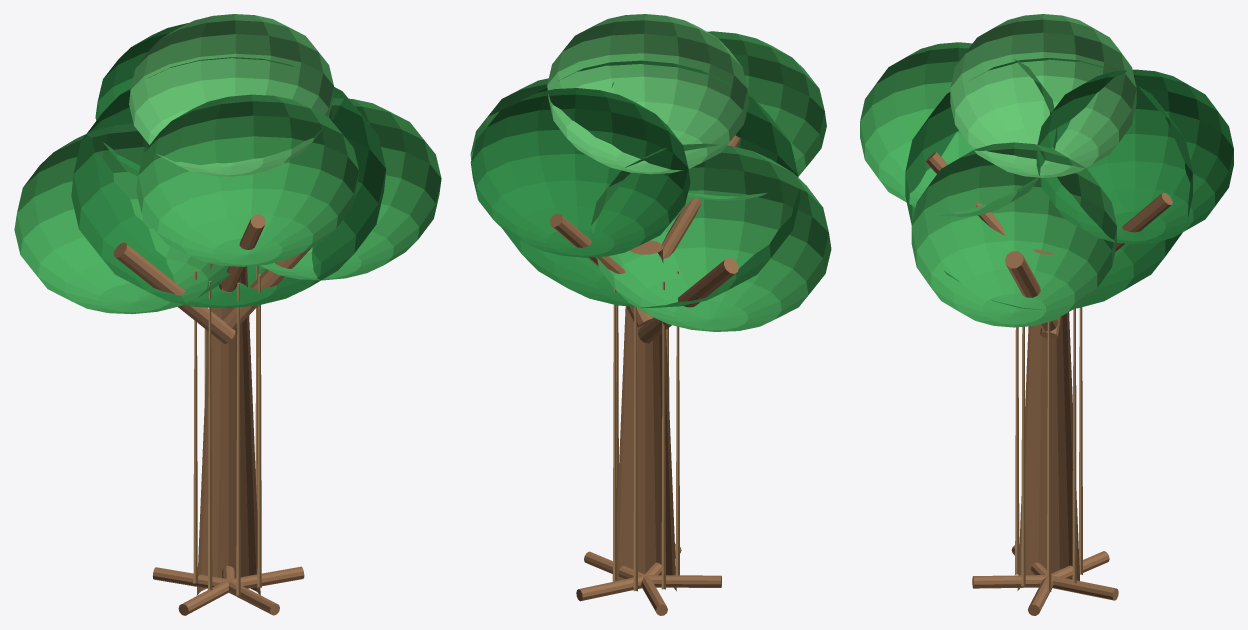
File: niu_optimized_tree.glb
3 views of the same model, side by side, from view 1: azimuth 30°, elevation 25°; view 2: azimuth 150°, elevation 25°; view 3: azimuth 270°, elevation 25° (orthographic).
Visible parts, largest first — view 1: leaf_cluster_04, leaf_cluster_05, leaf_cluster_00, leaf_cluster_02, main_tapered_trunk, leaf_cluster_01, leaf_cluster_03, branch_01, bark_ridge_02, bark_ridge_01, bark_ridge_03, bark_ridge_04 (+6 smaller); view 2: leaf_cluster_03, leaf_cluster_02, leaf_cluster_05, main_tapered_trunk, leaf_cluster_00, leaf_cluster_04, branch_01, bark_ridge_05, bark_ridge_04, bark_ridge_06, branch_03, bark_ridge_03 (+7 smaller); view 3: leaf_cluster_01, leaf_cluster_05, leaf_cluster_03, main_tapered_trunk, leaf_cluster_04, leaf_cluster_00, bark_ridge_06, bark_ridge_00, bark_ridge_01, branch_00, bark_ridge_05, bark_ridge_02 (+5 smaller).
Boxes of the visible parts, <box> form: leaf_cluster_04: <box>136,94,359,266</box>; leaf_cluster_05: <box>129,14,333,176</box>; leaf_cluster_00: <box>71,57,386,308</box>; leaf_cluster_02: <box>14,123,231,314</box>; main_tapered_trunk: <box>196,263,260,595</box>; leaf_cluster_01: <box>260,98,441,280</box>; leaf_cluster_03: <box>95,23,188,176</box>; branch_01: <box>113,242,235,343</box>; bark_ridge_02: <box>236,282,240,595</box>; bark_ridge_01: <box>257,274,261,587</box>; bark_ridge_03: <box>208,281,212,590</box>; bark_ridge_04: <box>193,270,197,583</box>; leaf_cluster_03: <box>470,88,690,257</box>; leaf_cluster_02: <box>590,143,831,331</box>; leaf_cluster_05: <box>547,14,748,174</box>; main_tapered_trunk: <box>617,240,676,591</box>; leaf_cluster_00: <box>502,60,800,307</box>; leaf_cluster_04: <box>611,31,826,200</box>; branch_01: <box>638,258,738,343</box>; bark_ridge_05: <box>633,307,637,591</box>; bark_ridge_04: <box>661,281,665,589</box>; bark_ridge_06: <box>612,288,616,581</box>; branch_03: <box>659,135,740,258</box>; bark_ridge_03: <box>675,270,679,575</box>; leaf_cluster_01: <box>911,142,1116,327</box>; leaf_cluster_05: <box>950,14,1136,177</box>; leaf_cluster_03: <box>1036,69,1233,244</box>; main_tapered_trunk: <box>1017,249,1079,590</box>; leaf_cluster_04: <box>860,42,1057,216</box>; leaf_cluster_00: <box>905,58,1192,310</box>; bark_ridge_06: <box>1072,308,1076,584</box>; bark_ridge_00: <box>1047,322,1051,591</box>; bark_ridge_01: <box>1021,326,1025,586</box>; branch_00: <box>1005,251,1058,331</box>; bark_ridge_05: <box>1079,307,1082,574</box>; bark_ridge_02: <box>1015,327,1019,574</box>.
Size of the model in its own units: 3.05 by 4.5 by 2.69.
